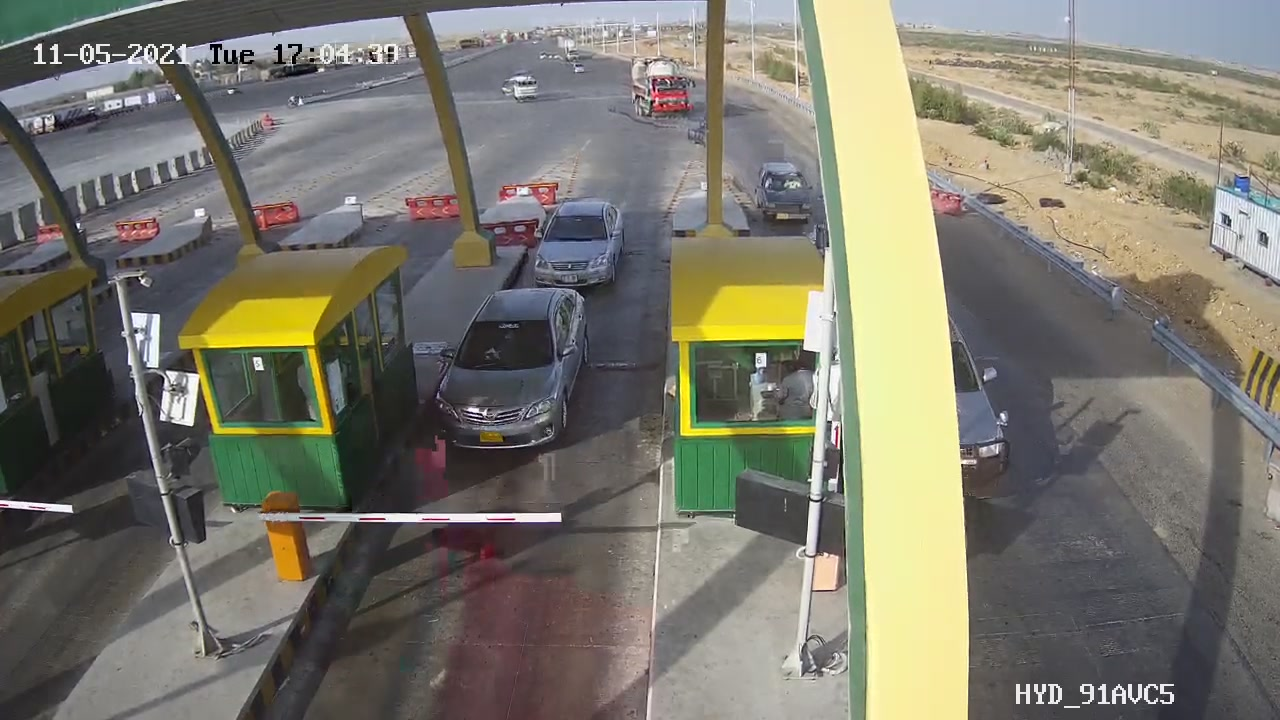F1: (424, 275, 609, 465), (526, 185, 638, 303)
